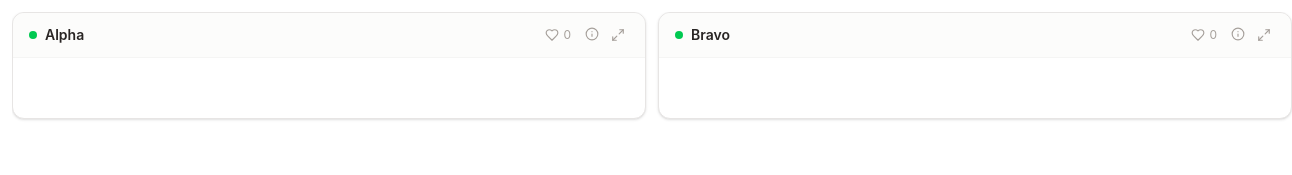
Test case: ResponseGroup › maximizes one panel and collapses the others into chips
Click the button named "Maximize this response" in the row of "Alpha": (618, 35) [607,24,629,46]
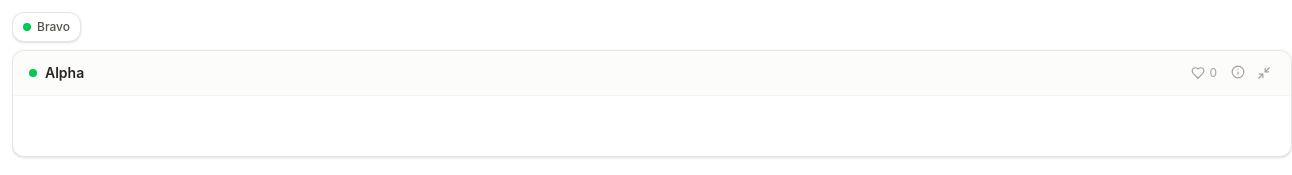
Expected: the button "Bravo" is shown, [12,12,81,42]
Expected: the button named "Restore side-by-side" is shown, [1253,62,1275,84]
